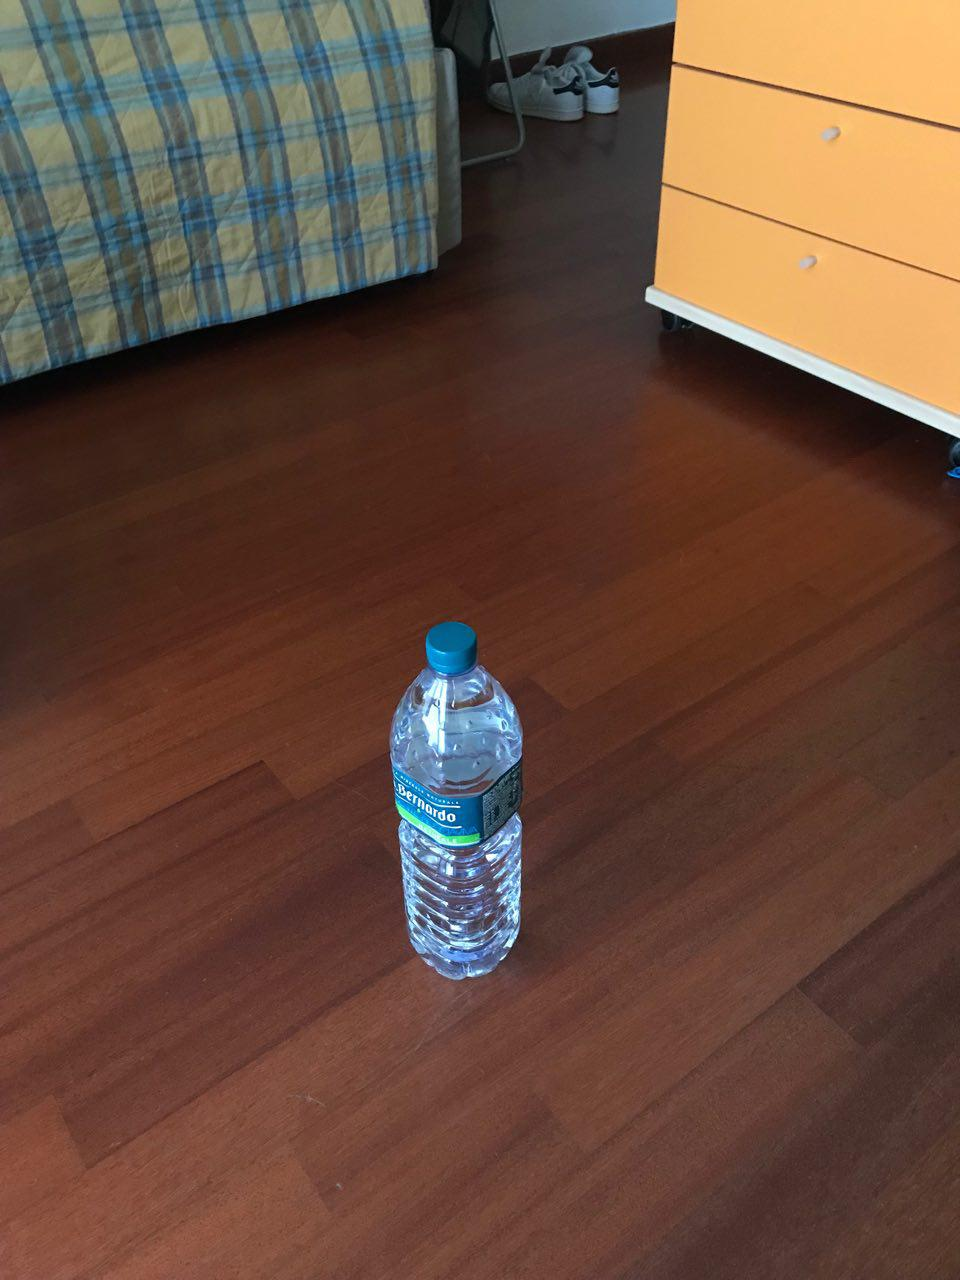san_bernardo: (387, 620, 528, 981)
